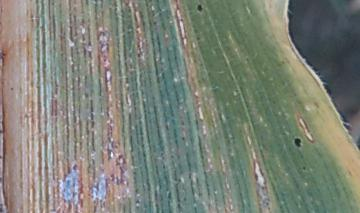tarspot: (292, 136, 303, 149), (1, 51, 7, 70), (195, 2, 204, 13), (71, 162, 78, 173), (300, 164, 308, 172), (135, 52, 141, 61), (8, 86, 15, 93)
